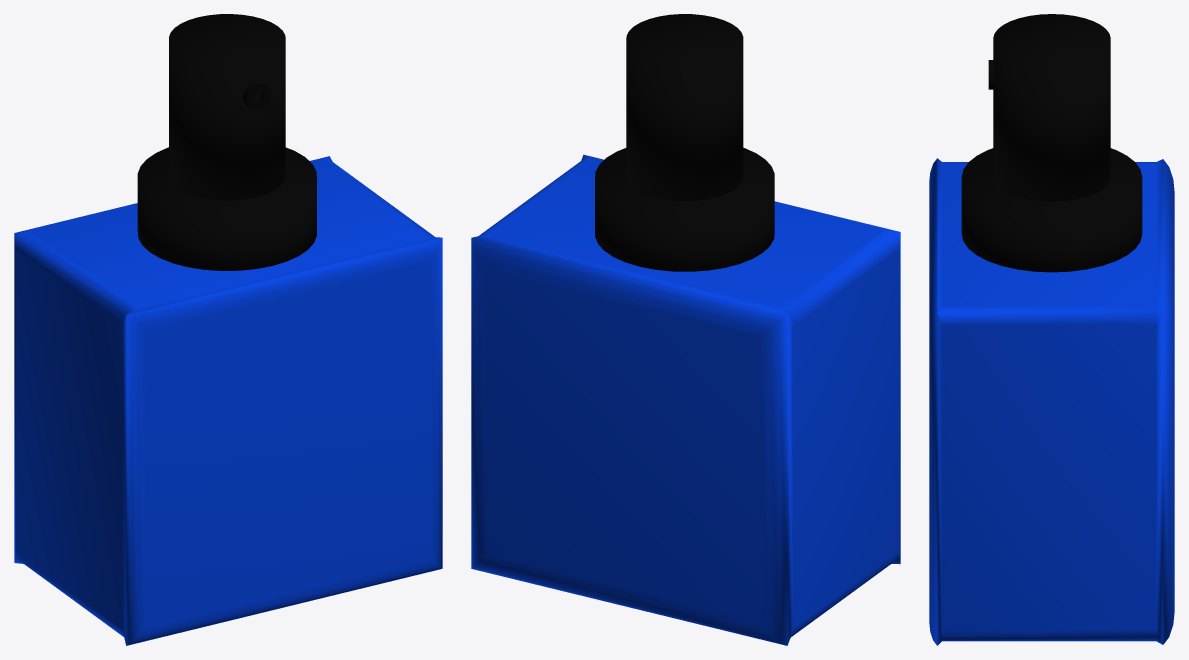
Rendered from Cologne.fbx.
The picture shows the model from 3 angles, left to right: view 1: azimuth 30°, elevation 25°; view 2: azimuth 150°, elevation 25°; view 3: azimuth 270°, elevation 25°; orthographic projection.
Parts seen in each view (by area): view 1: Cologne; view 2: Cologne; view 3: Cologne.
Part boxes in pixels (bbox=[...]): Cologne: bbox=[14, 14, 442, 645]; Cologne: bbox=[471, 14, 900, 645]; Cologne: bbox=[929, 14, 1174, 645].
Bounding box in the file's own units: 40.02 × 63.34 × 26.55.
